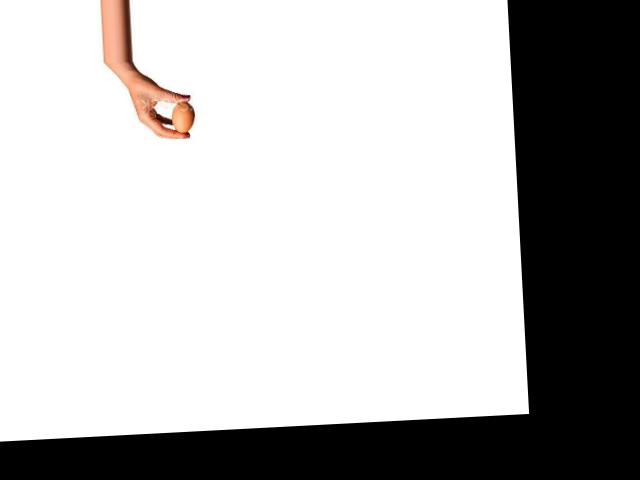egg: (171, 100, 194, 133)
